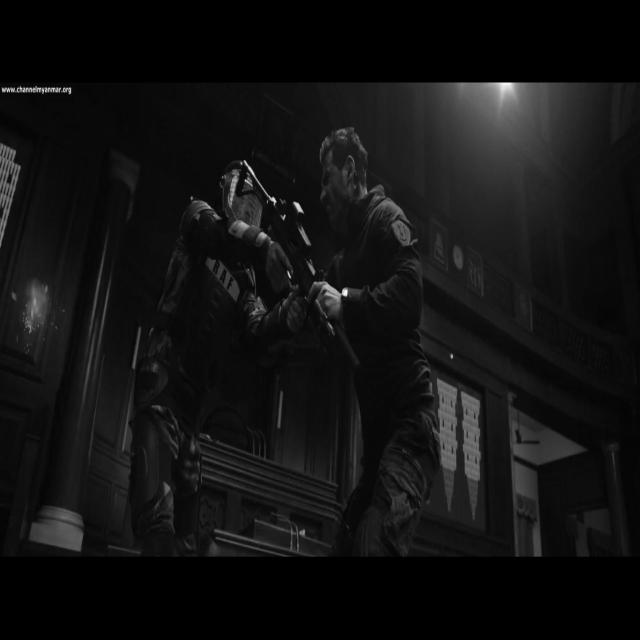gun: (236, 160, 360, 375)
